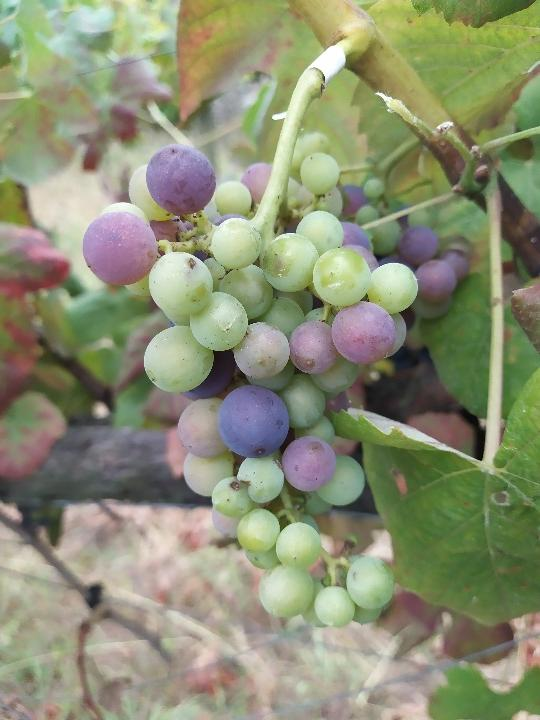grape: (79, 142, 422, 632)
